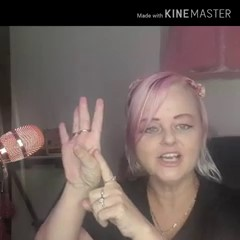Y: (56, 94, 131, 231)
